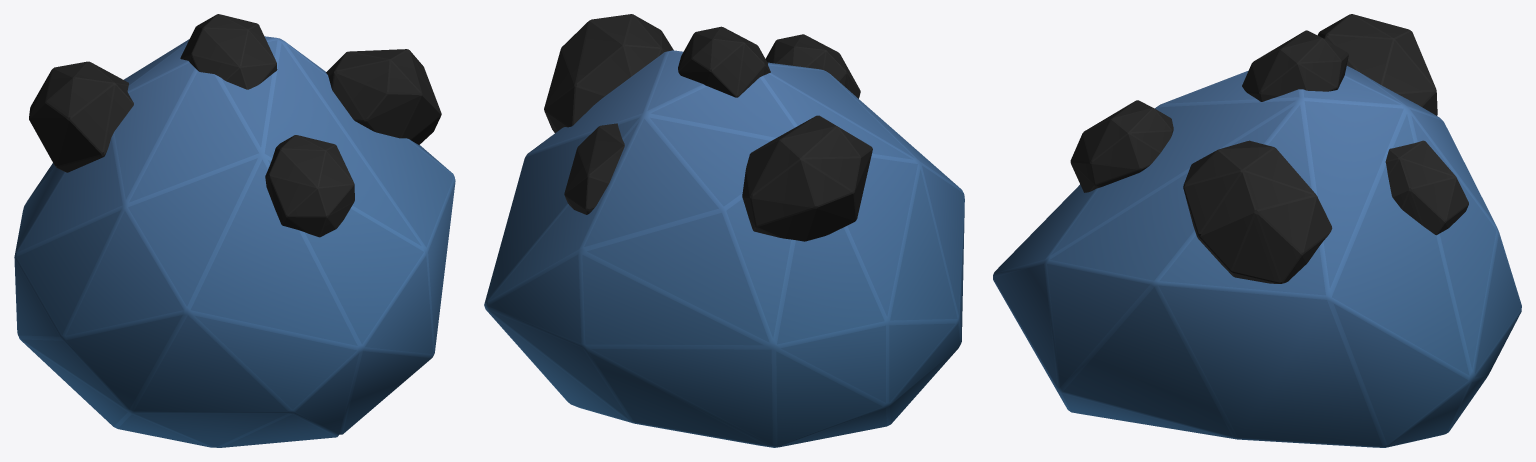
The model's file is Ore_Coal_1.glb.
3 views of the same model, side by side, from view 1: azimuth 30°, elevation 25°; view 2: azimuth 150°, elevation 25°; view 3: azimuth 270°, elevation 25° (orthographic). The views are drawn at different scales.
Parts seen in each view (by area): view 1: Ore_Coal_1; view 2: Ore_Coal_1; view 3: Ore_Coal_1.
Part boxes in pixels (<box>): Ore_Coal_1: <box>14,14,455,447</box>; Ore_Coal_1: <box>484,14,964,447</box>; Ore_Coal_1: <box>993,14,1521,447</box>.
Size of the model in its own units: 1.37 by 1.29 by 1.55.
